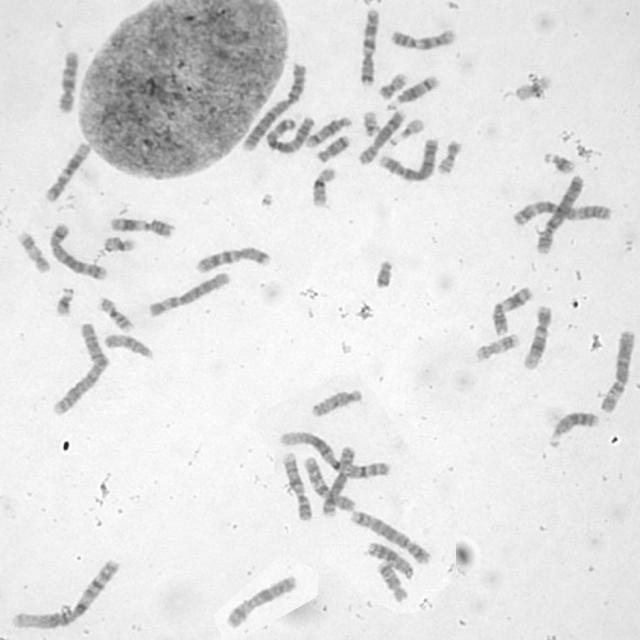A1: (8, 556, 122, 631), (276, 427, 392, 480)
A2: (239, 58, 308, 154), (48, 319, 109, 418)
A3: (509, 198, 614, 227), (262, 113, 316, 155)
B4: (532, 172, 586, 256), (377, 135, 442, 186)
B5: (347, 507, 432, 566), (46, 220, 109, 282)
C10: (302, 455, 358, 512), (54, 47, 80, 116)
C11: (488, 283, 534, 336), (106, 214, 176, 239)
C12: (42, 138, 92, 203), (520, 302, 553, 371)
C6: (144, 269, 232, 319), (596, 327, 636, 414)
C7: (193, 243, 272, 274), (356, 5, 381, 88)
C8: (354, 106, 407, 166), (319, 444, 356, 521)
C9: (280, 449, 314, 522), (387, 26, 459, 52)
D13: (546, 408, 600, 449), (365, 540, 415, 580)
D14: (384, 72, 440, 111), (302, 114, 352, 149)
D15: (309, 386, 364, 418), (102, 330, 156, 360)
E16: (94, 294, 136, 332), (308, 164, 337, 208)
E17: (15, 227, 52, 275), (472, 330, 520, 363)
E18: (374, 558, 410, 603), (314, 133, 352, 164)
F19: (512, 72, 552, 102), (101, 233, 139, 254)
F20: (434, 136, 465, 176), (376, 70, 408, 101)
G21: (541, 149, 577, 176), (53, 284, 76, 318)
G22: (386, 115, 426, 147), (361, 107, 381, 137)
X: (223, 571, 299, 629)
Y: (372, 257, 395, 289)
